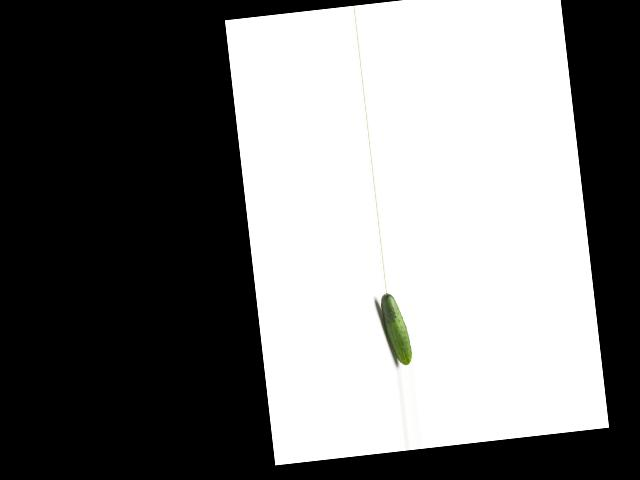cucumber: (378, 290, 412, 366)
